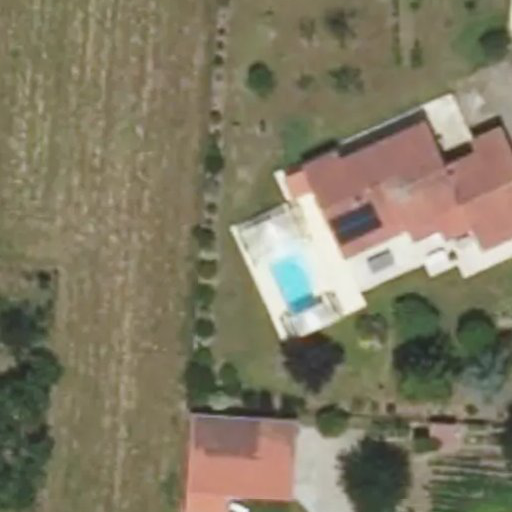pool: (222, 213, 295, 268)
